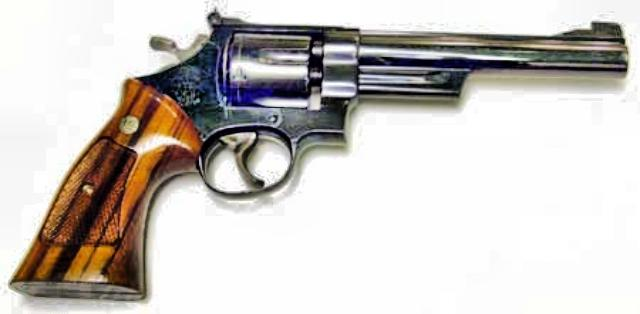pistol: (6, 7, 628, 301)
